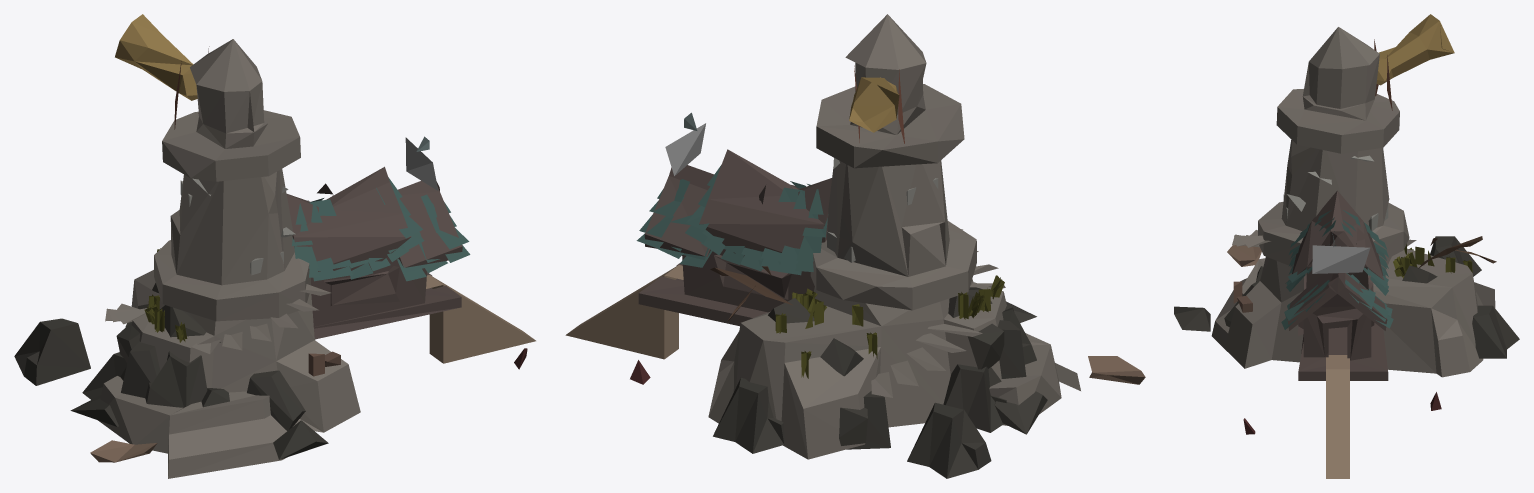
The model's file is lighthouse.access-v12.lod1.glb.
3 renders of one model, left to right at view 1: azimuth 30°, elevation 25°; view 2: azimuth 150°, elevation 25°; view 3: azimuth 270°, elevation 25°, orthographic. The views are drawn at different scales.
Visible parts, largest first — view 1: Cylinder001_Material #343_0; view 2: Cylinder001_Material #343_0; view 3: Cylinder001_Material #343_0.
Boxes of the visible parts, bbox=[...] form: Cylinder001_Material #343_0: bbox=[14, 14, 535, 478]; Cylinder001_Material #343_0: bbox=[565, 14, 1145, 478]; Cylinder001_Material #343_0: bbox=[1174, 14, 1519, 478].
Size of the model in its own units: 28.86 by 20.82 by 20.08.
